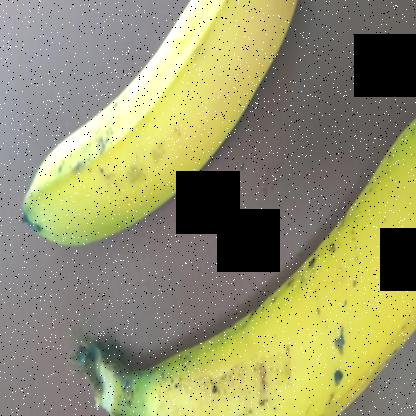freshripe: (29, 0, 318, 259)
ripe: (80, 100, 416, 415)
